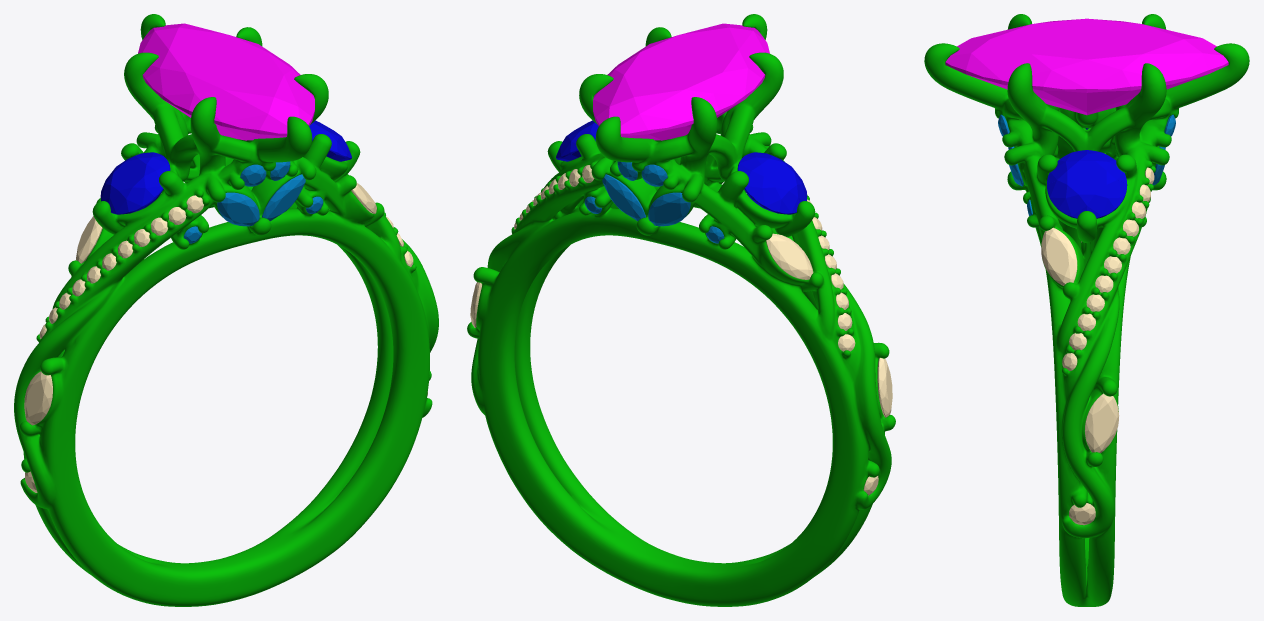
Rendered from BE1D1644_MQ_200ct_RENDER.glb.
The picture shows the model from 3 angles, left to right: view 1: azimuth 30°, elevation 25°; view 2: azimuth 150°, elevation 25°; view 3: azimuth 270°, elevation 25°; orthographic projection.
Parts seen in each view (by area): view 1: Metal 01, CS_Diamond_Marquise, Diamond_Round_side, Diamond_Marquise_Gem_SH.001, Diamond_Marquise_Gem_HD.003, Diamond_Marquise_Gem_HD.002, Diamond_Round_side.001, Diamond_Marquise_Gem_SH.003; view 2: Metal 01, CS_Diamond_Marquise, Diamond_Round_side, Diamond_Marquise_Gem_SH.003, Diamond_Marquise_Gem_HD, Diamond_Marquise_Gem_HD.001, Diamond_Round_side.001, Diamond_Marquise_Gem_SH.001; view 3: Metal 01, CS_Diamond_Marquise, Diamond_Round_side.001, Diamond_Marquise_Gem_SH.002, Diamond_Marquise_Gem_SH, Diamond_Round_Gem_SH.
Part boxes in pixels (left/top/right/bottom): Metal 01: left=14, top=14, right=438, bottom=606; CS_Diamond_Marquise: left=138, top=23, right=314, bottom=140; Diamond_Round_side: left=100, top=152, right=170, bottom=214; Diamond_Marquise_Gem_SH.001: left=24, top=371, right=52, bottom=425; Diamond_Marquise_Gem_HD.003: left=217, top=192, right=259, bottom=226; Diamond_Marquise_Gem_HD.002: left=262, top=174, right=305, bottom=221; Diamond_Round_side.001: left=309, top=120, right=351, bottom=161; Diamond_Marquise_Gem_SH.003: left=76, top=216, right=102, bottom=263; Metal 01: left=467, top=14, right=895, bottom=606; CS_Diamond_Marquise: left=593, top=23, right=769, bottom=140; Diamond_Round_side: left=737, top=152, right=807, bottom=214; Diamond_Marquise_Gem_SH.003: left=766, top=233, right=813, bottom=279; Diamond_Marquise_Gem_HD: left=648, top=192, right=690, bottom=226; Diamond_Marquise_Gem_HD.001: left=602, top=174, right=645, bottom=221; Diamond_Round_side.001: left=556, top=120, right=598, bottom=161; Diamond_Marquise_Gem_SH.001: left=877, top=358, right=892, bottom=417; Metal 01: left=924, top=14, right=1249, bottom=606; CS_Diamond_Marquise: left=945, top=18, right=1228, bottom=115; Diamond_Round_side.001: left=1047, top=150, right=1127, bottom=218; Diamond_Marquise_Gem_SH.002: left=1041, top=227, right=1077, bottom=285; Diamond_Marquise_Gem_SH: left=1085, top=393, right=1119, bottom=453; Diamond_Round_Gem_SH: left=1069, top=503, right=1095, bottom=525.
Bounding box in the file's own units: 21.44 × 26.24 × 14.17.
